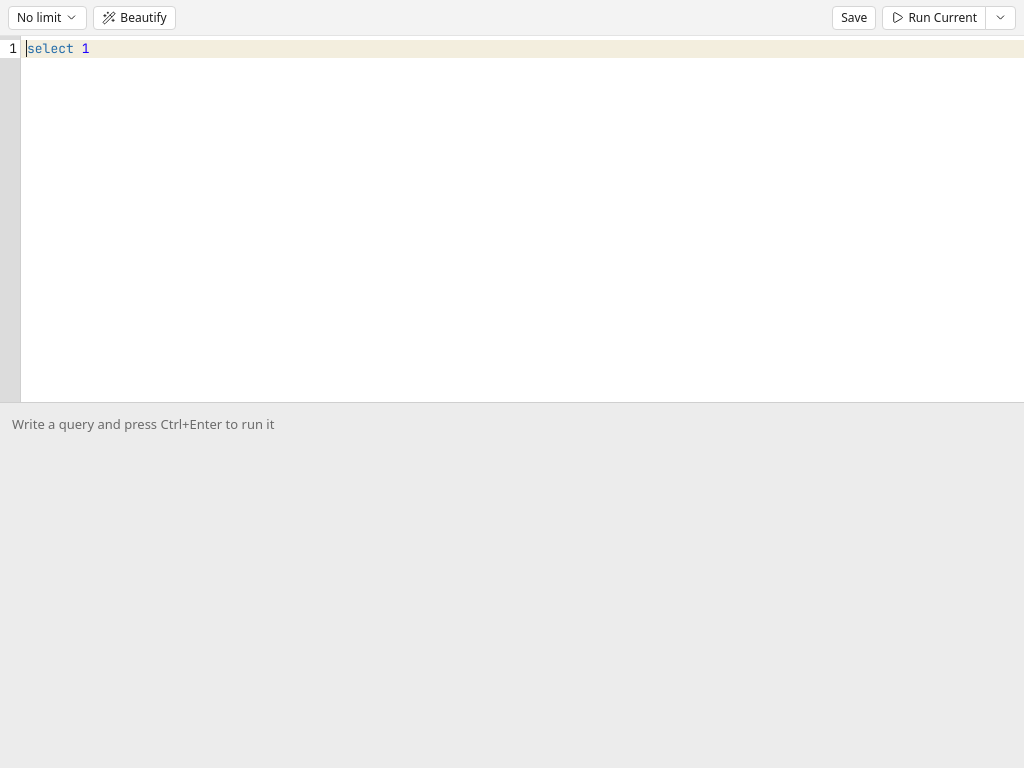
Test: an execute rejected with connectionLost also drops the session
What coordinates should you click on to do the following:
click the button named "More run options"
I would click on:
 (1000, 18)
Its box is [985, 6, 1016, 30].
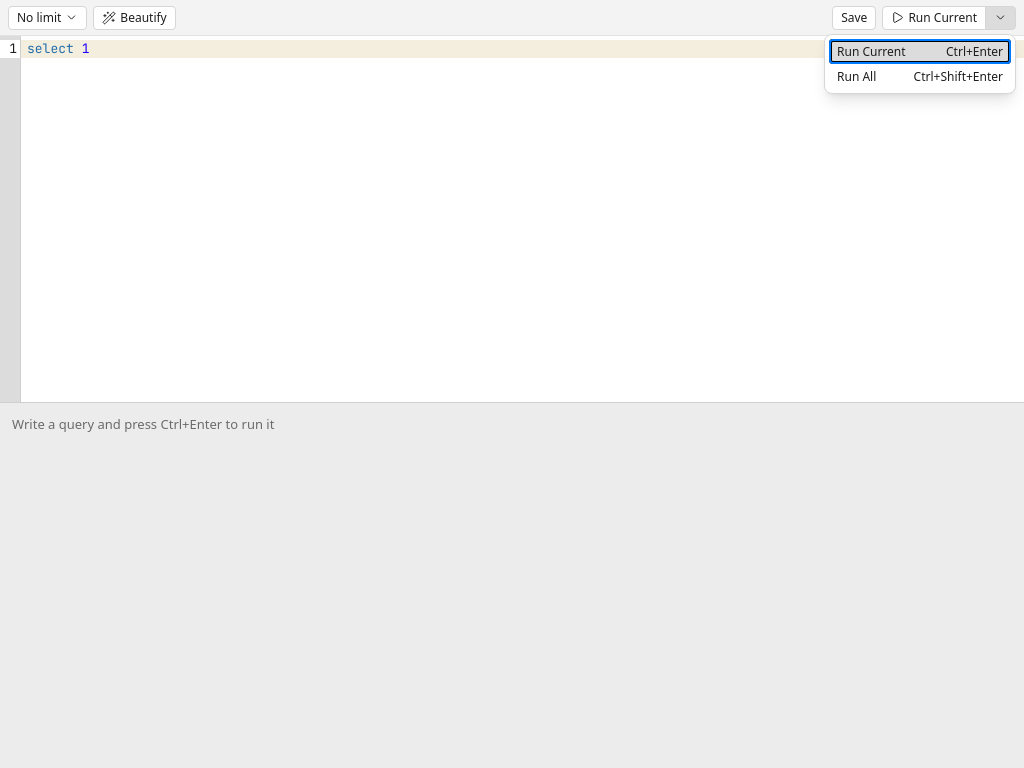
What coordinates should you click on to do the following:
click the menu item "Run All Ctrl+Shift+Enter"
I would click on:
 (920, 76)
Its box is [829, 64, 1011, 89].
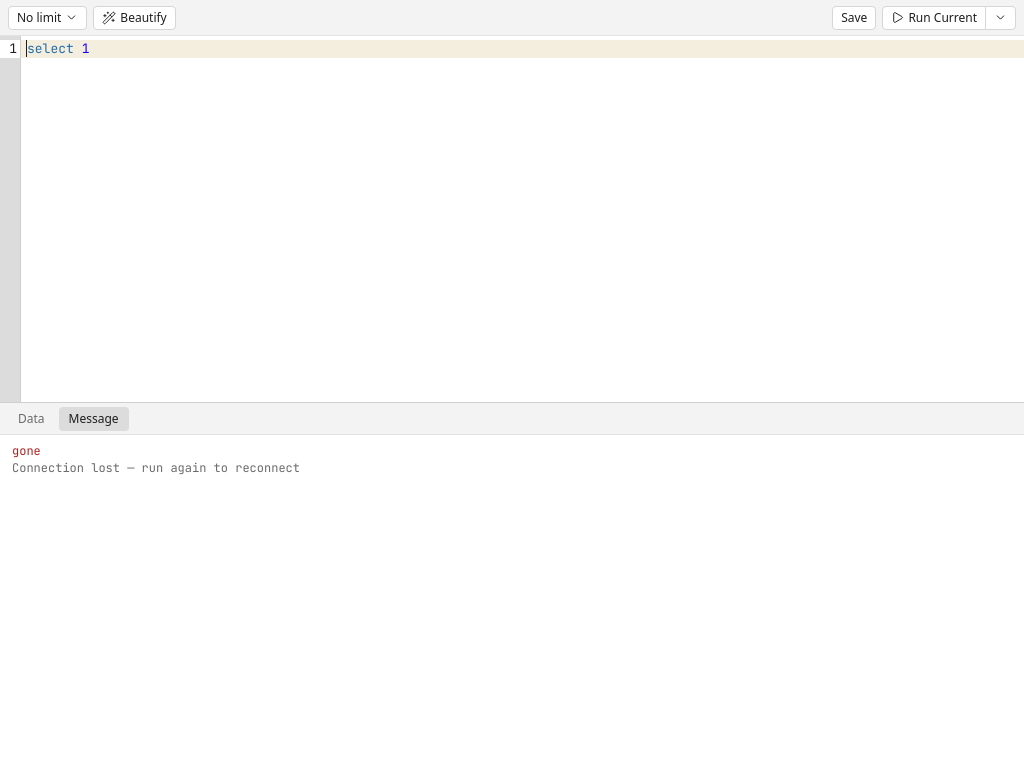
Expected: the text "Connection lost — run again to reconnect" is shown, [12, 460, 300, 476]
